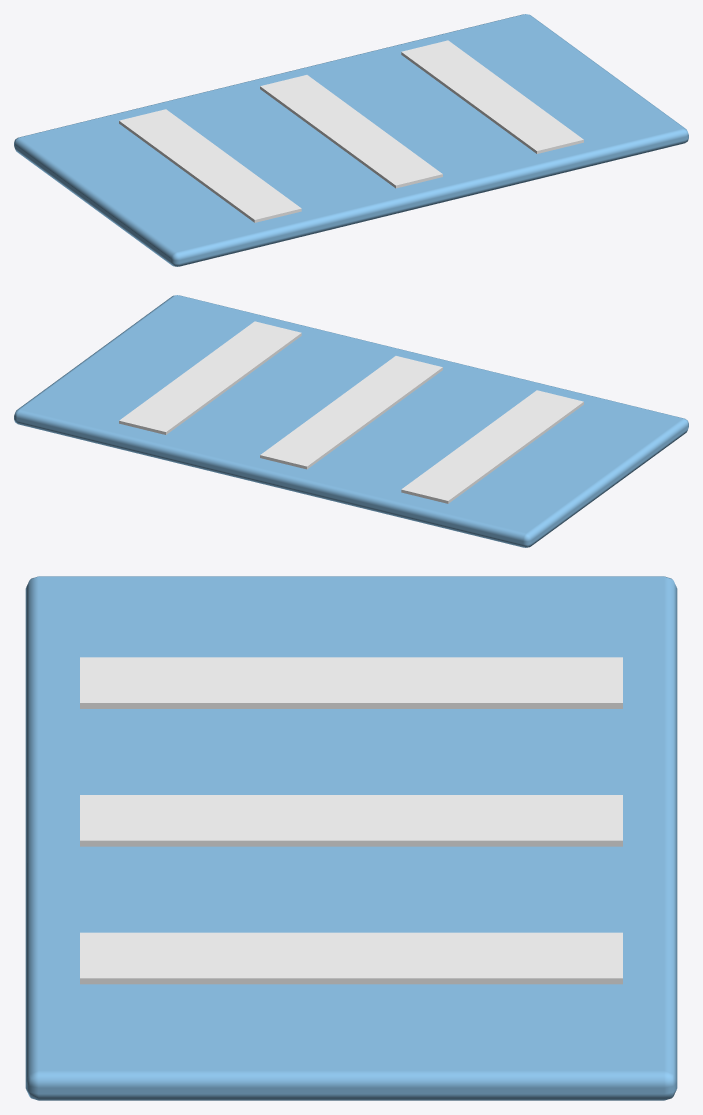
Rendered from bathmat.glb.
3 renders of one model, top to bottom at view 1: azimuth 30°, elevation 25°; view 2: azimuth 150°, elevation 25°; view 3: azimuth 270°, elevation 25°, orthographic. The views are drawn at different scales.
Bounding box in the file's own units: 1.1 × 0.036 × 0.6.
